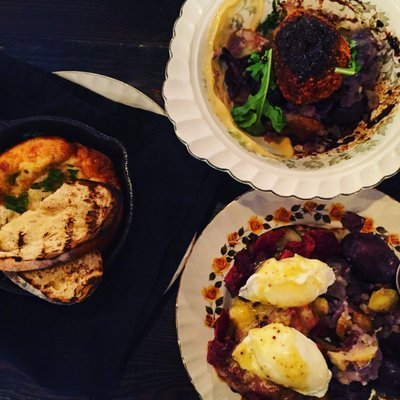pasta: (239, 254, 335, 309)
sushi: (174, 0, 399, 201), (197, 199, 400, 400)
